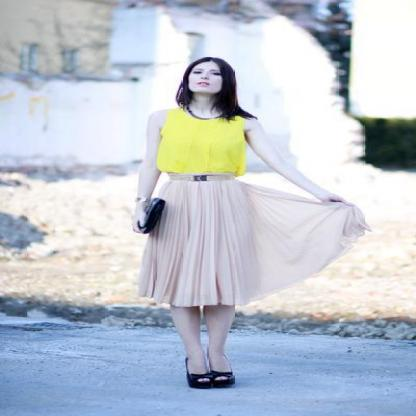bag: (138, 200, 164, 233)
shirt: (156, 108, 252, 173)
shoe: (187, 370, 233, 388)
skirt: (133, 175, 370, 307)
